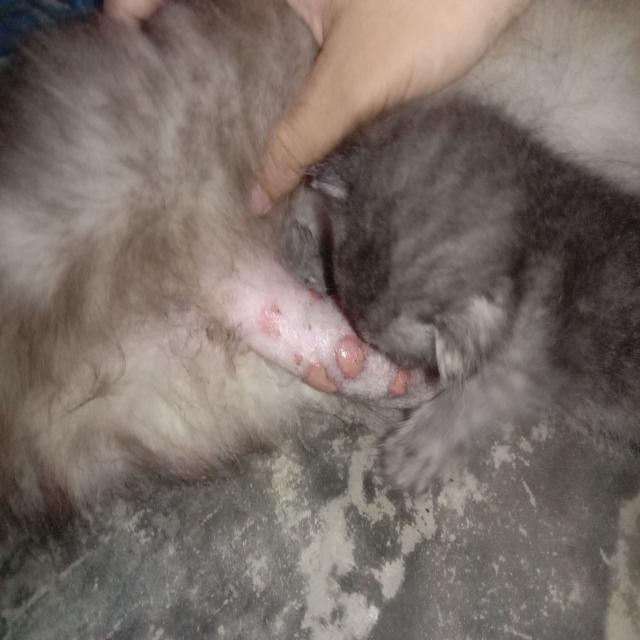da khoe manh: (55, 62, 238, 228)
hac lao: (224, 279, 318, 361)
